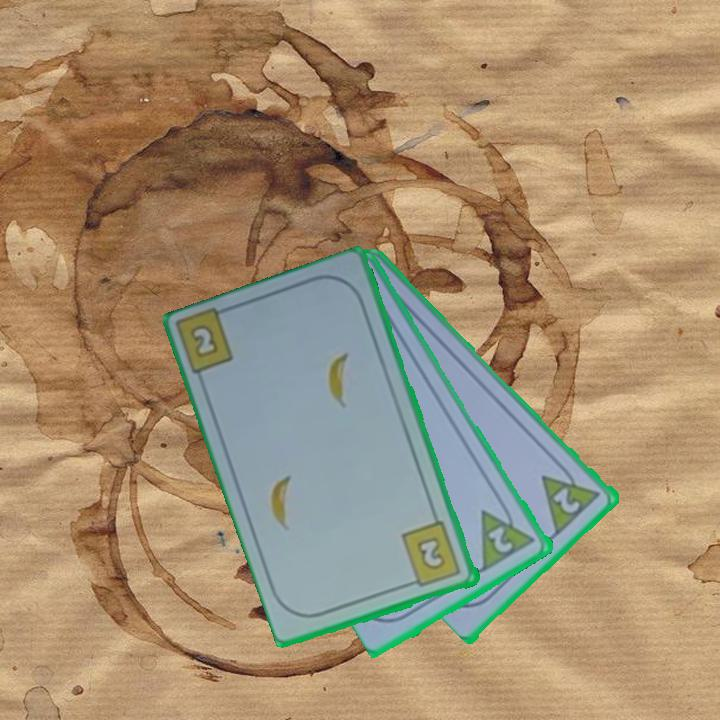2b: (174, 304, 237, 380), (398, 518, 464, 590)
2p: (550, 483, 584, 517), (485, 523, 517, 557)
